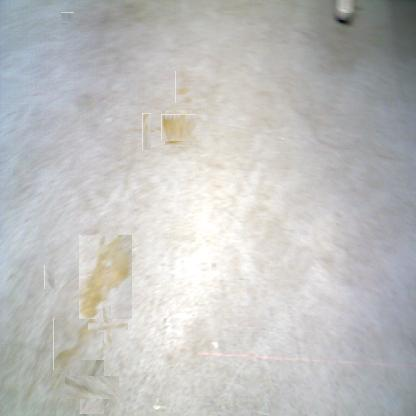liquid: (80, 235, 134, 319), (53, 318, 96, 370), (163, 112, 194, 143), (96, 314, 120, 338), (175, 71, 192, 103), (135, 120, 158, 143), (150, 400, 164, 414)
mark: (73, 367, 111, 407), (44, 265, 55, 289), (61, 12, 74, 24)
